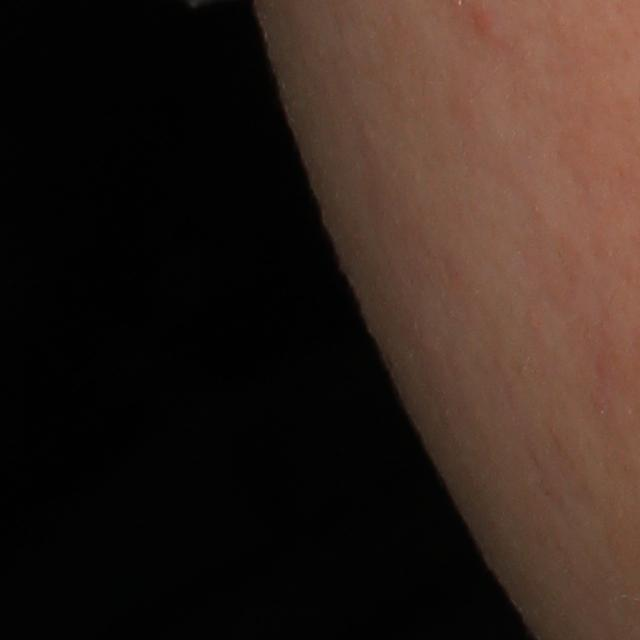papule: (462, 2, 506, 49)
